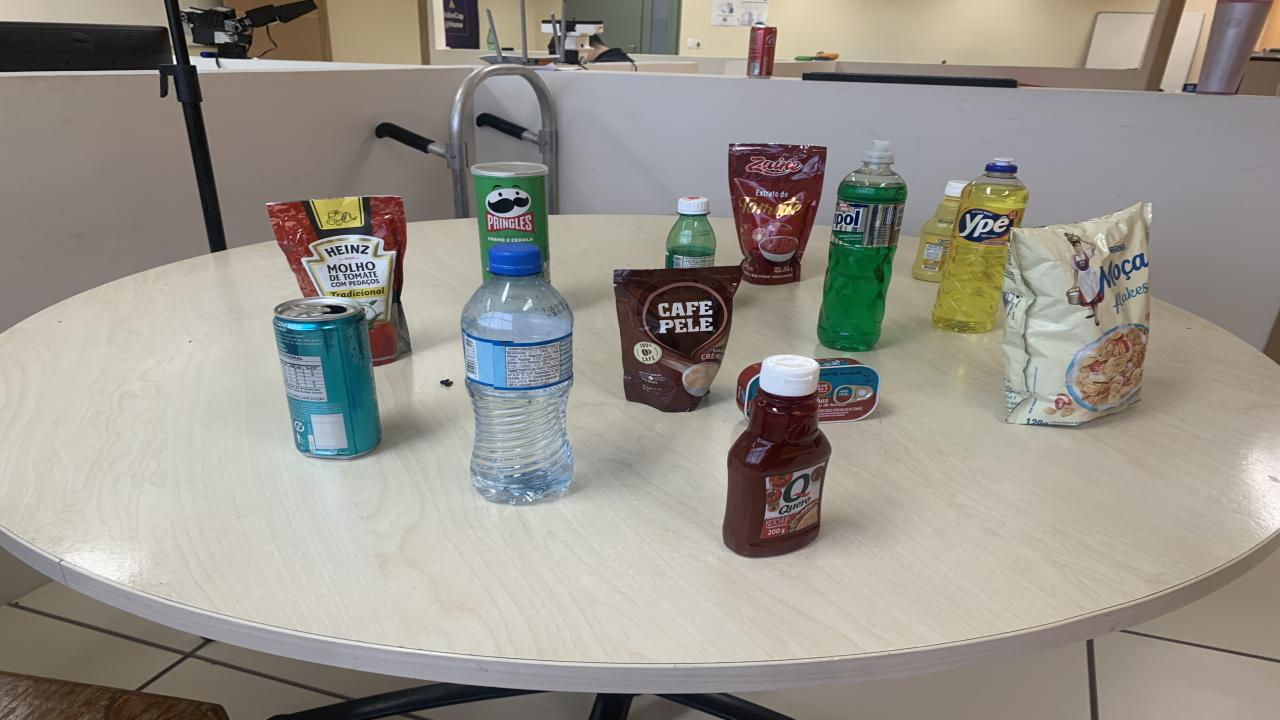Coffee-Pantry_Items: (612, 266, 742, 412)
Detergent-Cleanup_Items: (818, 141, 908, 351), (932, 159, 1028, 334)
Flakes-Snacks: (1002, 202, 1152, 426)
Guarana-Drinks: (665, 197, 715, 268)
Ketchup-Pantry_Items: (722, 354, 830, 557)
Mustard-Pantry_Items: (912, 180, 968, 283)
Pringles-Snacks: (470, 161, 550, 281)
Tea-Drinks: (272, 296, 382, 459)
Tomato_Sauce-Pantry_Items: (268, 195, 412, 366), (728, 144, 828, 285)
Tuna_Can-Pantry_Items: (818, 358, 880, 424), (735, 364, 760, 416)
Water_Bottle-Drinks: (460, 244, 572, 504)
